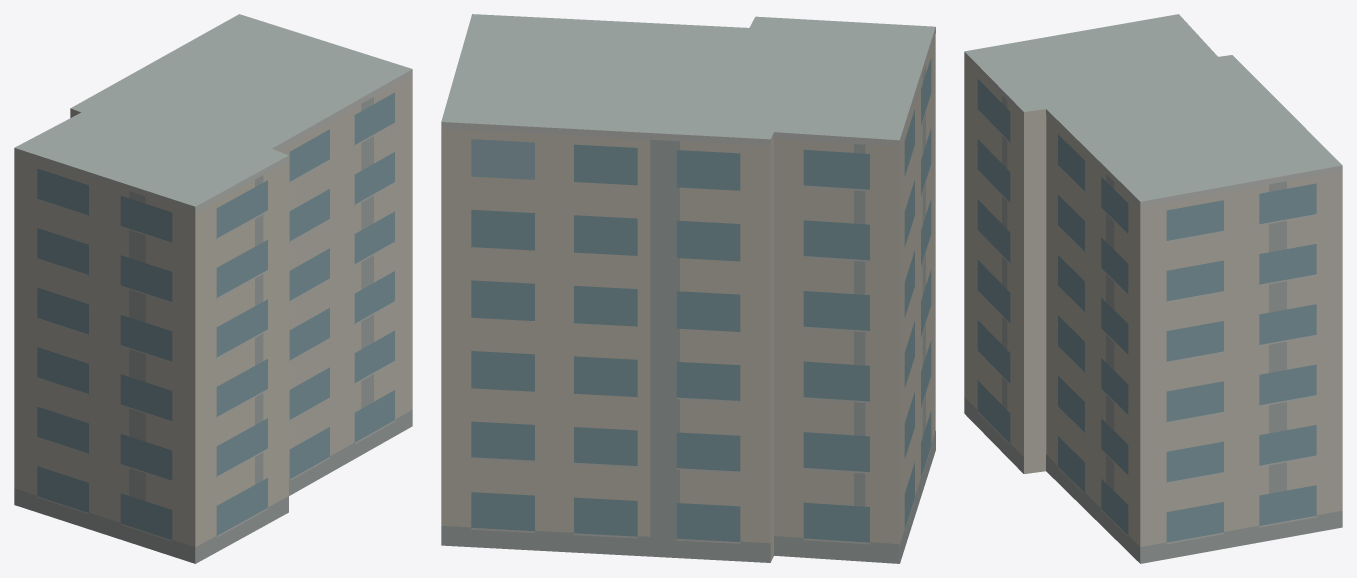
File: survey-upis-32844067.glb
3 renders of one model, left to right at view 1: azimuth 30°, elevation 25°; view 2: azimuth 150°, elevation 25°; view 3: azimuth 270°, elevation 25°, orthographic. The views are drawn at different scales.
Visible parts, largest first — view 1: survey-upis-32844067.tmp; view 2: survey-upis-32844067.tmp; view 3: survey-upis-32844067.tmp.
Boxes of the visible parts, x1=… form: survey-upis-32844067.tmp: x1=14, y1=14, x2=412, y2=563; survey-upis-32844067.tmp: x1=441, y1=14, x2=935, y2=563; survey-upis-32844067.tmp: x1=964, y1=14, x2=1342, y2=563.
Bounding box in the file's own units: 16.97 × 15.25 × 14.45.
